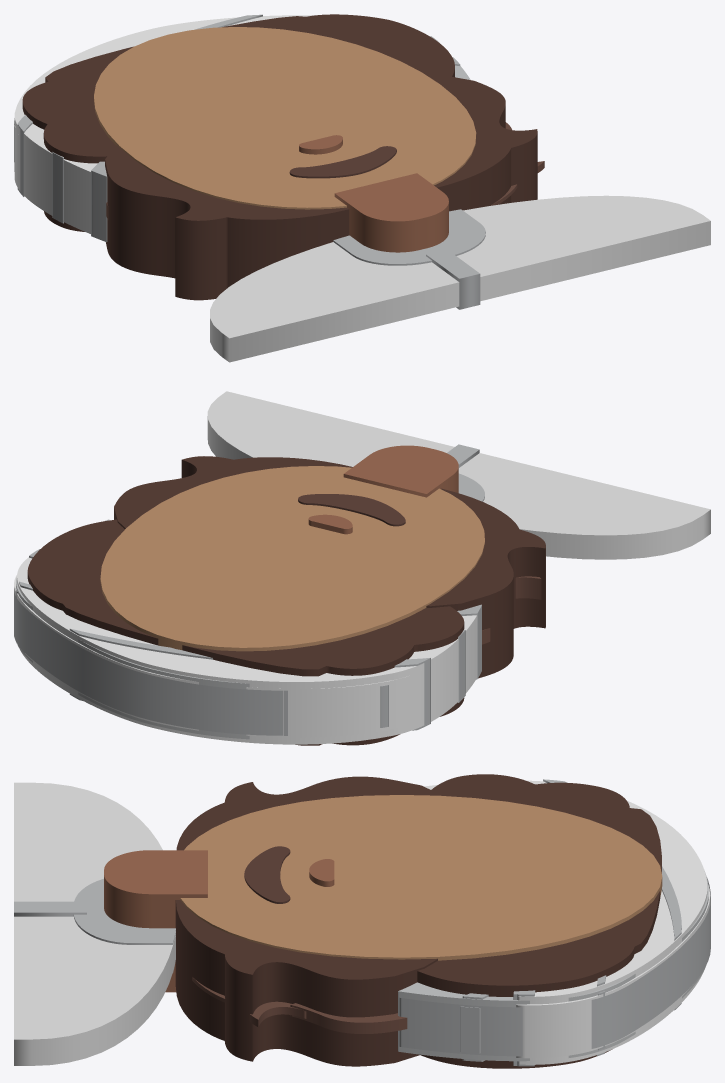
File: emoji_u1f473_1f3fd.glb
3 views of the same model, one above another, from view 1: azimuth 30°, elevation 25°; view 2: azimuth 150°, elevation 25°; view 3: azimuth 270°, elevation 25° (orthographic). The views are drawn at different scales.
Visible parts, largest first — view 1: emoji_u1f473_1f3fd; view 2: emoji_u1f473_1f3fd; view 3: emoji_u1f473_1f3fd.
Part boxes in pixels (<box>): emoji_u1f473_1f3fd: <box>14,14,710,362</box>; emoji_u1f473_1f3fd: <box>14,391,710,745</box>; emoji_u1f473_1f3fd: <box>14,774,710,1068</box>.
Size of the model in its own units: 0.0292 by 0.0054 by 0.0334.
